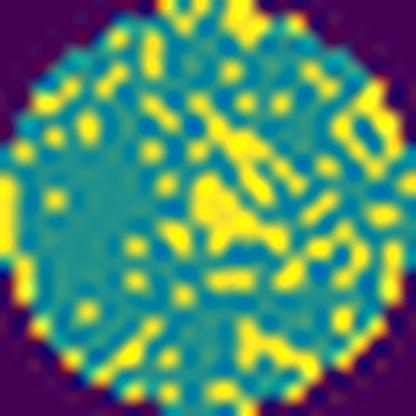Center: (185, 90, 310, 265)
